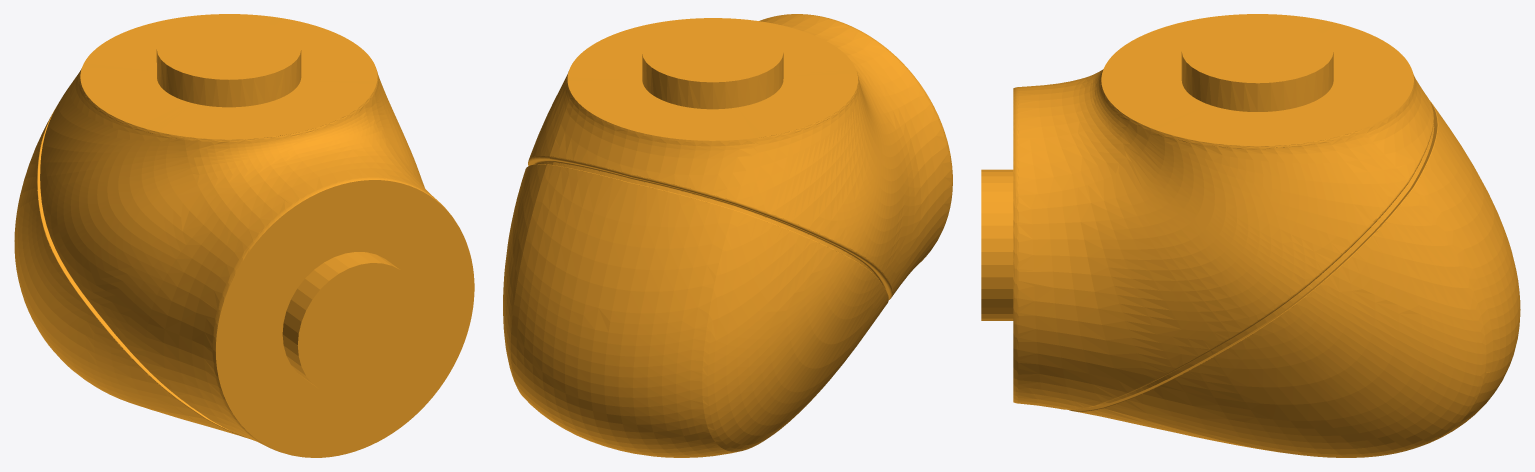
File: KukaLBRiiwa7Link6.dae
The picture shows the model from 3 angles, left to right: view 1: azimuth 30°, elevation 25°; view 2: azimuth 150°, elevation 25°; view 3: azimuth 270°, elevation 25°; orthographic projection. The views are drawn at different scales.
Parts seen in each view (by area): view 1: KUKAiiwa7Link6; view 2: KUKAiiwa7Link6; view 3: KUKAiiwa7Link6.
Boxes of the visible parts, bbox=[...] form: KUKAiiwa7Link6: bbox=[14, 14, 474, 457]; KUKAiiwa7Link6: bbox=[503, 14, 952, 457]; KUKAiiwa7Link6: bbox=[981, 14, 1520, 457].
Size of the model in its own units: 0.1323 by 0.1774 by 0.1374.
